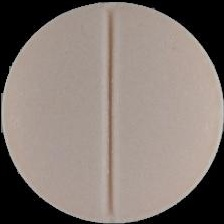61919-396: (0, 0, 224, 224)
